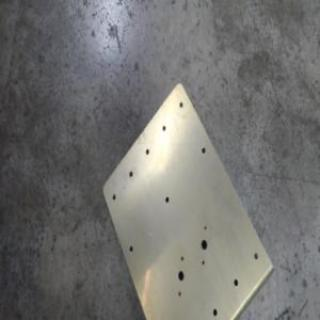MetalSheettrack_idkeyframe: (99, 78, 275, 319)
